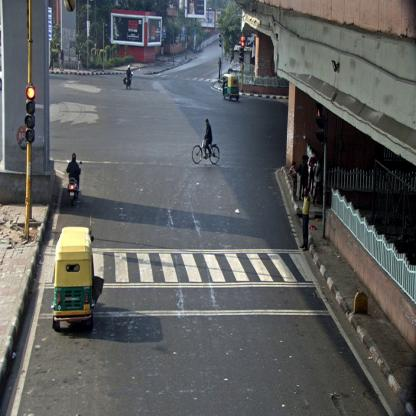motorcycle: (191, 118, 223, 165), (66, 150, 83, 205), (125, 65, 132, 89)
